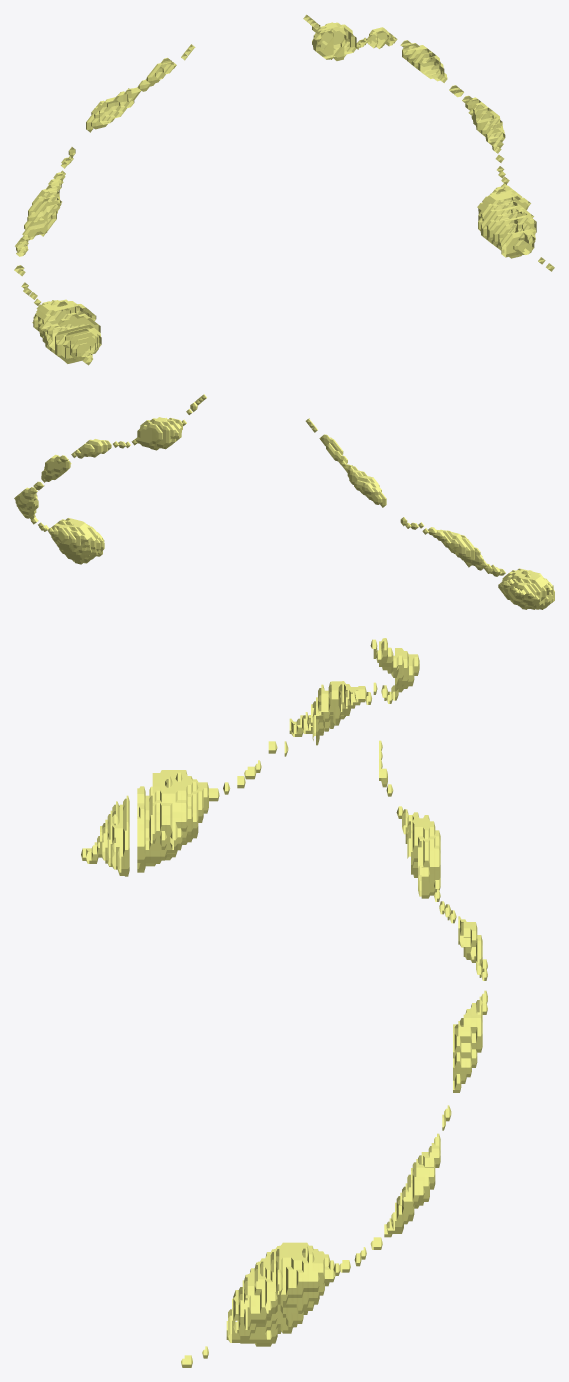
File: SVV_ALA.gltf
3 views of the same model, one above another, from view 1: azimuth 30°, elevation 25°; view 2: azimuth 150°, elevation 25°; view 3: azimuth 270°, elevation 25° (orthographic). The views are drawn at different scales.
Visible parts, largest first — view 1: ALA; view 2: ALA; view 3: ALA.
Boxes of the visible parts, x1,y1,x2,y2 form: ALA: (14,14,554,365); ALA: (14,394,554,609); ALA: (81,638,487,1367).
Size of the model in its own units: 79400 by 37392 by 29712.
